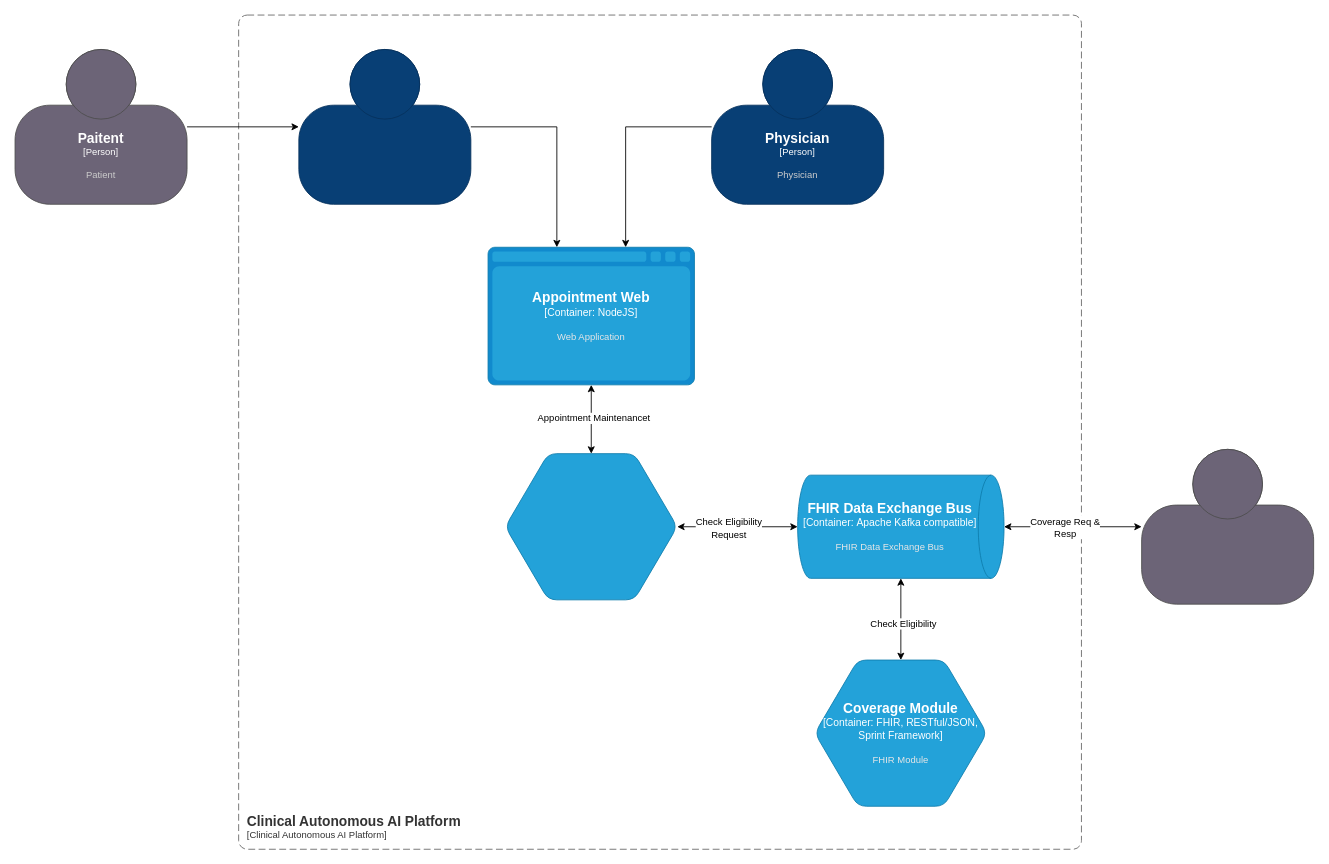
The diagram is 1329 pixels wide and 864 high, and some of its shapes have lost their labels. The shapes that lost their labels are listed below. From the top down, each one's centre as x and y in pixels, then its label:
At (384,126): "Receptionlist [Person] Receptionlist".
At (590,526): "Appointment Module [Container: FHIR, RESTful/JSON, Sprint Framework] FHIR Module".
At (1227,526): "Health Insurance Provider [Person] Health Insurance Provider".
